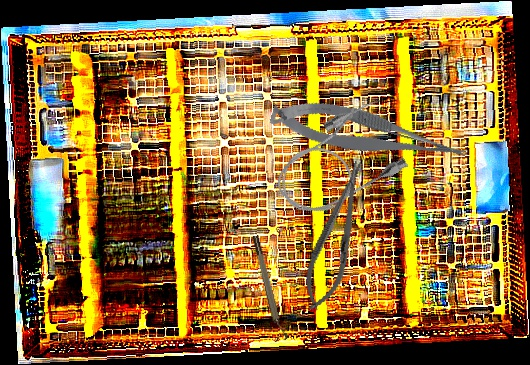Cannula: (261, 92, 417, 230)
Fixation Ring: (250, 233, 289, 343)
Micro Scissor: (267, 84, 470, 186)
Needle Holder: (295, 156, 378, 316)
